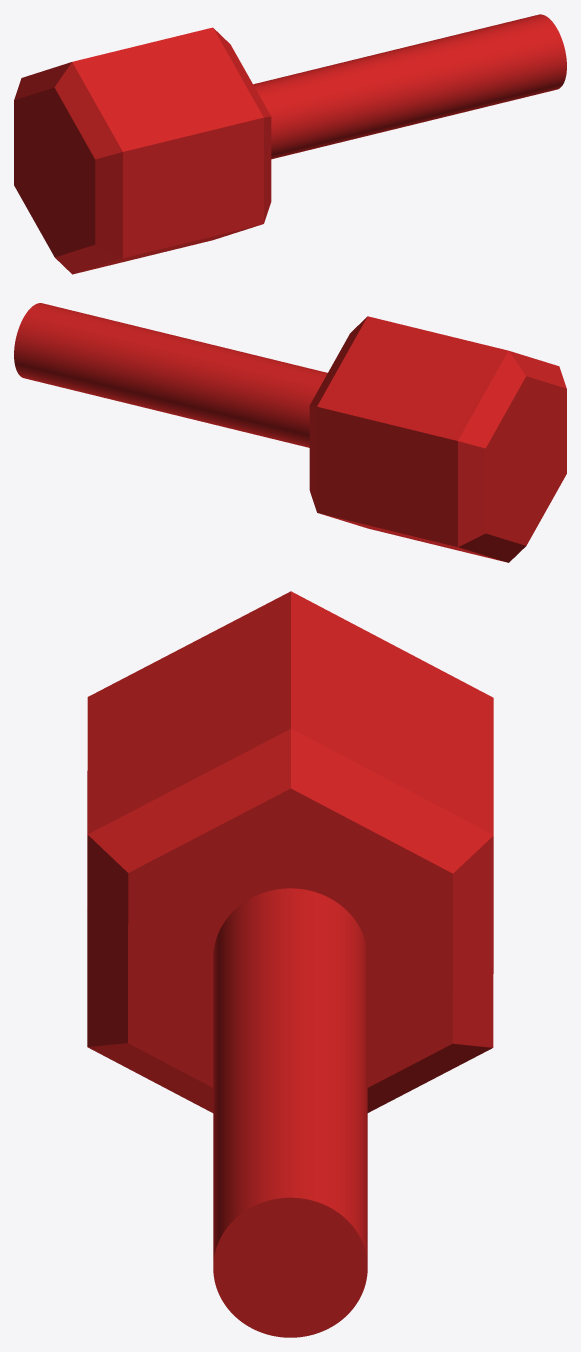
Rendered from 1_colored.obj.
3 renders of one model, top to bottom at view 1: azimuth 30°, elevation 25°; view 2: azimuth 150°, elevation 25°; view 3: azimuth 270°, elevation 25°, orthographic. The views are drawn at different scales.
Bounding box in the file's own units: 0.07 × 0.0288 × 0.025.
